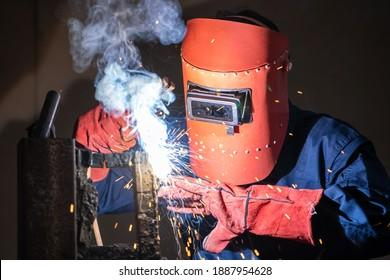gloves: (161, 176, 327, 255)
